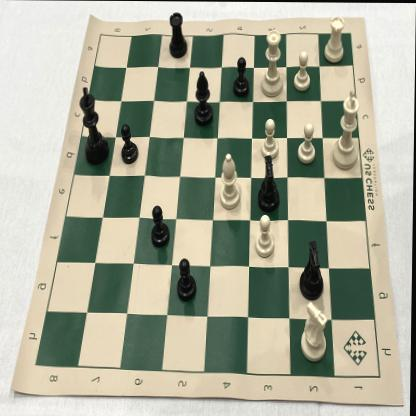black-bishop: (189, 65, 218, 130)
black-king: (76, 79, 112, 170)
black-knight: (297, 234, 329, 302), (254, 152, 285, 216)
black-pawn: (174, 250, 200, 304), (148, 201, 174, 252), (229, 52, 254, 102), (119, 119, 142, 168)
black-rook: (166, 8, 192, 64)
white-bishop: (218, 146, 246, 212)
white-king: (329, 86, 365, 172)
white-knight: (300, 297, 332, 362)
white-pawn: (253, 209, 282, 262), (294, 117, 319, 168), (258, 114, 282, 162), (290, 48, 314, 94)
white-queen: (258, 25, 286, 100)
white-rook: (321, 12, 349, 66)
